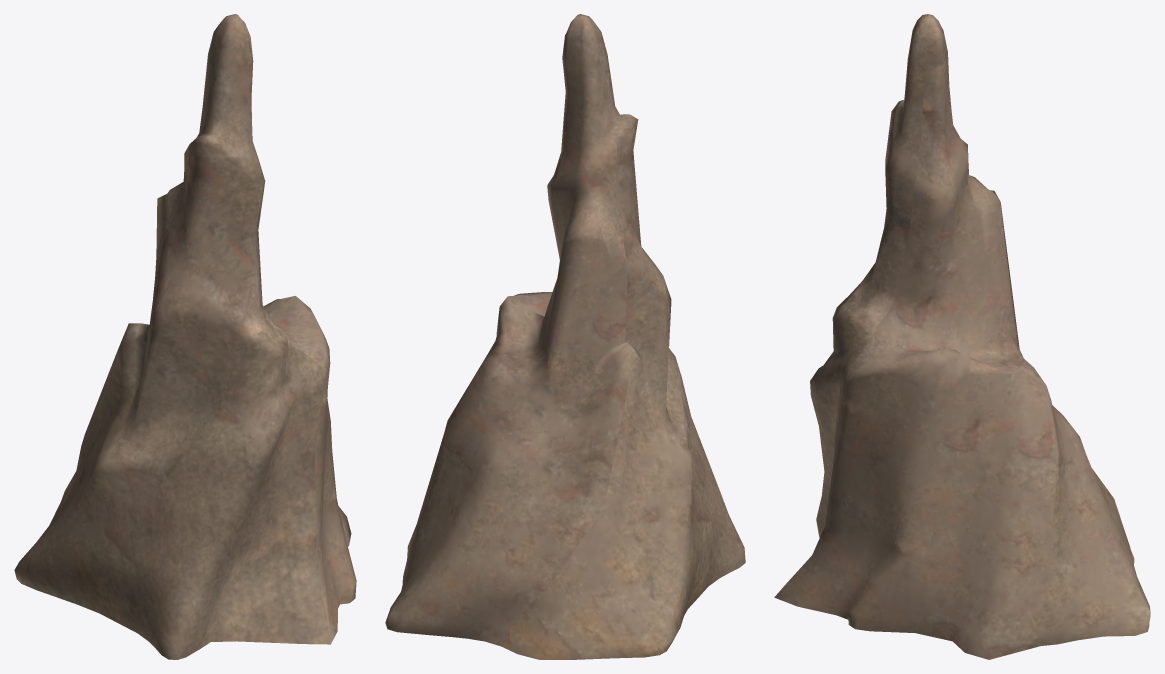
Rendered from stallattite4 1.fbx.
The picture shows the model from 3 angles, left to right: view 1: azimuth 30°, elevation 25°; view 2: azimuth 150°, elevation 25°; view 3: azimuth 270°, elevation 25°; orthographic projection. The views are drawn at different scales.
Visible parts, largest first — view 1: stallattite4; view 2: stallattite4; view 3: stallattite4.
Part boxes in pixels (bbox=[...]): stallattite4: bbox=[14, 14, 356, 659]; stallattite4: bbox=[385, 14, 745, 659]; stallattite4: bbox=[774, 14, 1150, 659].
Bounding box in the file's own units: 16.83 × 30.66 × 18.31.
